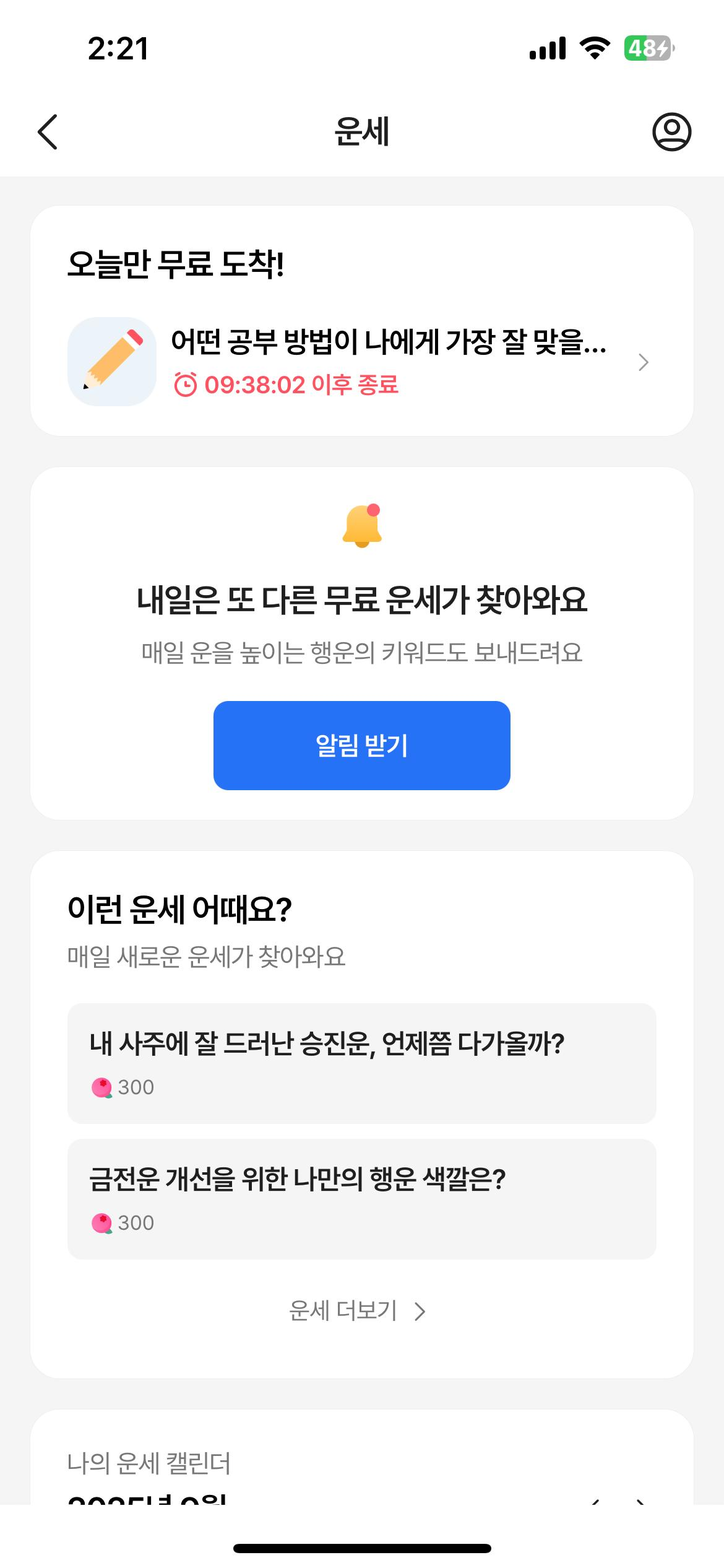button: (217, 698, 520, 795), (276, 1276, 433, 1331), (644, 103, 707, 169), (27, 103, 72, 159), (631, 353, 664, 392)
